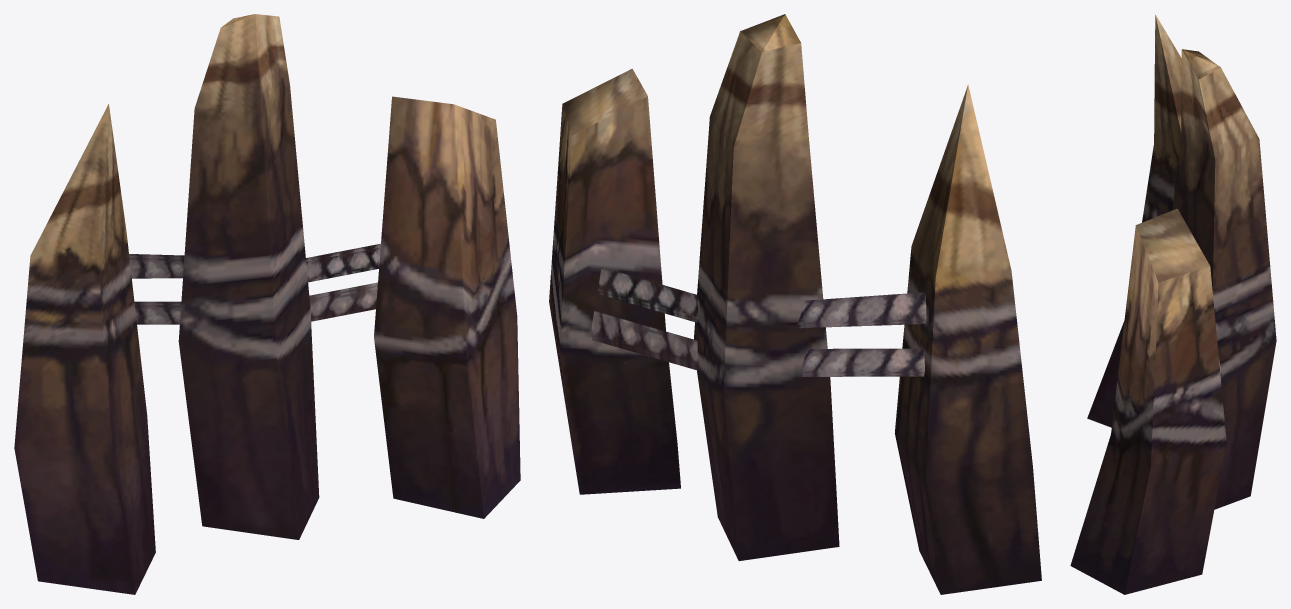
File: cave_tusk_fencing_06.fbx
The picture shows the model from 3 angles, left to right: view 1: azimuth 30°, elevation 25°; view 2: azimuth 150°, elevation 25°; view 3: azimuth 270°, elevation 25°; orthographic projection. The views are drawn at different scales.
Parts seen in each view (by area): view 1: tusk_fencing_02_mat; view 2: tusk_fencing_02_mat; view 3: tusk_fencing_02_mat.
Part boxes in pixels (<box>): tusk_fencing_02_mat: <box>14,14,520,594</box>; tusk_fencing_02_mat: <box>549,14,1041,594</box>; tusk_fencing_02_mat: <box>1070,14,1276,594</box>.
Bounding box in the file's own units: 1.85 × 1.82 × 0.7669.
